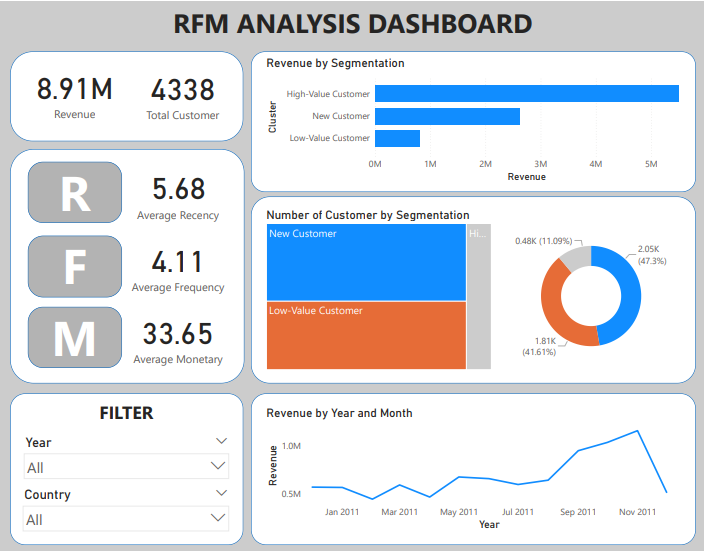

The dashboard page shown, as its layout file describes it:
{"tool":"powerbi","page":{"name":"Page 1","canvas":[1280,1000],"ordinal":0},"visuals":[{"type":"shape","box":[17.7,710.6,423.2,275.6],"z":0},{"type":"shape","box":[454.7,354.3,807.1,338.6],"z":1000},{"type":"shape","box":[454.7,90.6,807.1,255.9],"z":2000},{"type":"shape","box":[17.7,267.7,425.2,425.2],"z":3000},{"type":"shape","box":[17.7,90.6,423.2,163.4],"z":4000},{"type":"card","fields":{"Values":["Mesures.Total Customers"]},"box":[238.3,101.3,186.9,129.9],"z":5000},{"type":"textbox","box":[0,0,1280.2,76.3],"z":6000},{"type":"card","fields":{"Values":["Mesures.Revenue"]},"box":[49.2,100.4,173.2,129.9],"z":7000},{"type":"treemap","title":"Number of Customer by Segmentation","fields":{"Group":["Data_RFM_Clustered.Cluster"],"Values":["CountNonNull(Data_RFM_Clustered.CustomerID)"]},"box":[478.3,374,417.3,299.2],"z":8000},{"type":"card","fields":{"Values":["Mesures.Average Recency"]},"box":[221.2,281.1,204.1,131.3],"z":9000},{"type":"card","fields":{"Values":["Mesures.Average Frequency"]},"box":[221.2,412.4,204.1,131.3],"z":10000},{"type":"card","fields":{"Values":["Mesures.Average Monetary"]},"box":[221.2,543.7,204.1,129.9],"z":11000},{"type":"shape","box":[49.9,291.1,171.2,111.3],"z":12000},{"type":"shape","box":[49.9,425.2,171.2,111.3],"z":13000},{"type":"shape","box":[49.9,553.7,171.2,111.3],"z":14000},{"type":"barChart","title":"Revenue by Segmentation","fields":{"Y":["Mesures.Revenue"],"Category":["Data_RFM_Clustered.Cluster"]},"box":[478.3,100.4,769.7,232.3],"z":15000},{"type":"donutChart","fields":{"Y":["CountNonNull(Data_RFM_Clustered.CustomerID)"],"Category":["Data_RFM_Clustered.Cluster"]},"box":[895.7,403.5,352.4,261.8],"z":16000},{"type":"textbox","box":[74.8,281.5,120.1,133.9],"z":17000},{"type":"textbox","box":[74.8,413.4,120.1,133.9],"z":18000},{"type":"textbox","box":[74.8,543.3,120.1,133.9],"z":19000},{"type":"shape","box":[454.7,710.6,807.1,275.6],"z":20000},{"type":"lineChart","fields":{"Y":["Mesures.Revenue"],"Category":["Data_Cleaned.InvoiceDate.Variation.Date Hierarchy.Year","Data_Cleaned.InvoiceDate.Variation.Date Hierarchy.Month"]},"box":[478.3,734.3,769.7,230.3],"z":21000},{"type":"slicer","fields":{"Values":["Data_Cleaned.InvoiceDate.Variation.Date Hierarchy.Year"]},"box":[33.5,781.5,391.7,94.5],"z":22000},{"type":"slicer","fields":{"Values":["Data_Cleaned.Country"]},"box":[31.5,876,393.7,88.6],"z":23000},{"type":"textbox","box":[33.5,716.5,391.7,65],"z":24000}]}

Visuals, with their boxes in screenshot pixels (x1, y1, x2, y2), scaled from the page's 1280x1000 canvas onto the 704x551 screenshot:
shape: detection(10, 392, 242, 543)
shape: detection(250, 195, 694, 382)
shape: detection(250, 50, 694, 191)
shape: detection(10, 148, 244, 382)
shape: detection(10, 50, 242, 140)
card - Mesures.Total Customers: detection(131, 56, 234, 127)
textbox: detection(0, 0, 703, 42)
card - Mesures.Revenue: detection(27, 55, 122, 127)
"Number of Customer by Segmentation" treemap: detection(263, 206, 493, 371)
card - Mesures.Average Recency: detection(122, 155, 234, 227)
card - Mesures.Average Frequency: detection(122, 227, 234, 300)
card - Mesures.Average Monetary: detection(122, 300, 234, 371)
shape: detection(27, 160, 122, 222)
shape: detection(27, 234, 122, 296)
shape: detection(27, 305, 122, 366)
"Revenue by Segmentation" barChart: detection(263, 55, 686, 183)
donutChart - CountNonNull(Data_RFM_Clustered.CustomerID) x Data_RFM_Clustered.Cluster: detection(493, 222, 686, 367)
textbox: detection(41, 155, 107, 229)
textbox: detection(41, 228, 107, 302)
textbox: detection(41, 299, 107, 373)
shape: detection(250, 392, 694, 543)
lineChart - Mesures.Revenue x Data_Cleaned.InvoiceDate.Variation.Date Hierarchy.Year: detection(263, 405, 686, 531)
slicer - Data_Cleaned.InvoiceDate.Variation.Date Hierarchy.Year: detection(18, 431, 234, 483)
slicer - Data_Cleaned.Country: detection(17, 483, 234, 531)
textbox: detection(18, 395, 234, 431)
